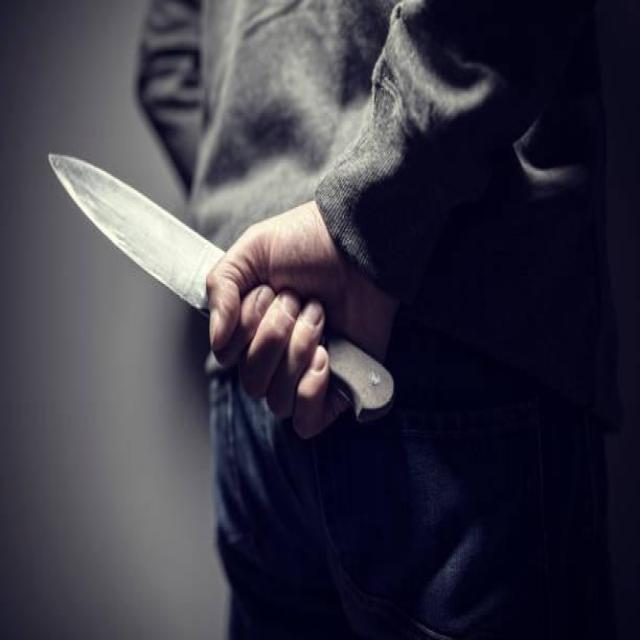faca: (39, 128, 418, 438)
